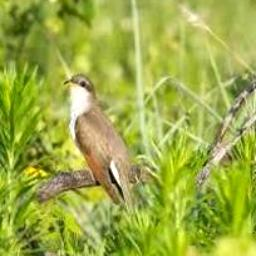Cuckoo: (63, 74, 137, 216)
